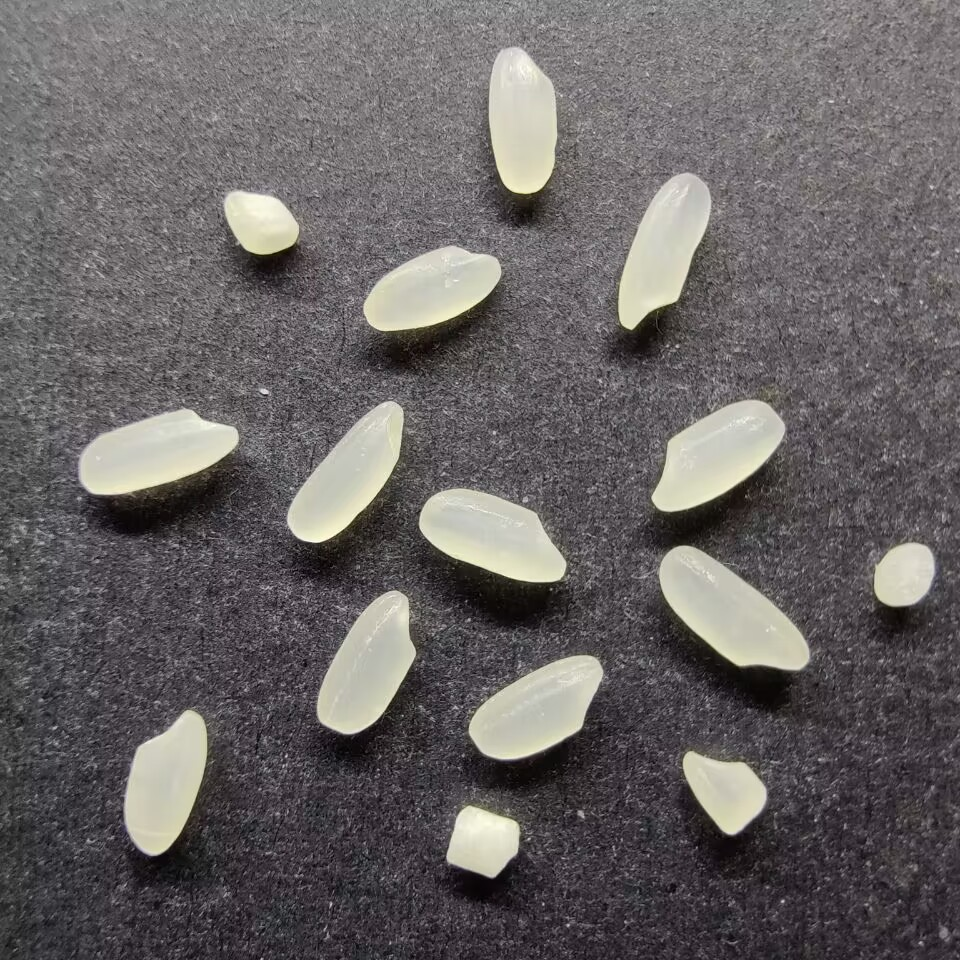broken: (682, 748, 770, 836), (444, 803, 522, 880), (221, 187, 302, 255), (871, 542, 937, 609)
rice: (656, 543, 812, 673), (285, 399, 406, 544), (647, 397, 787, 513), (614, 169, 712, 330), (418, 487, 569, 587), (76, 407, 241, 498), (314, 588, 416, 735), (467, 653, 604, 761), (122, 708, 207, 857), (361, 243, 501, 332), (487, 44, 559, 193)
